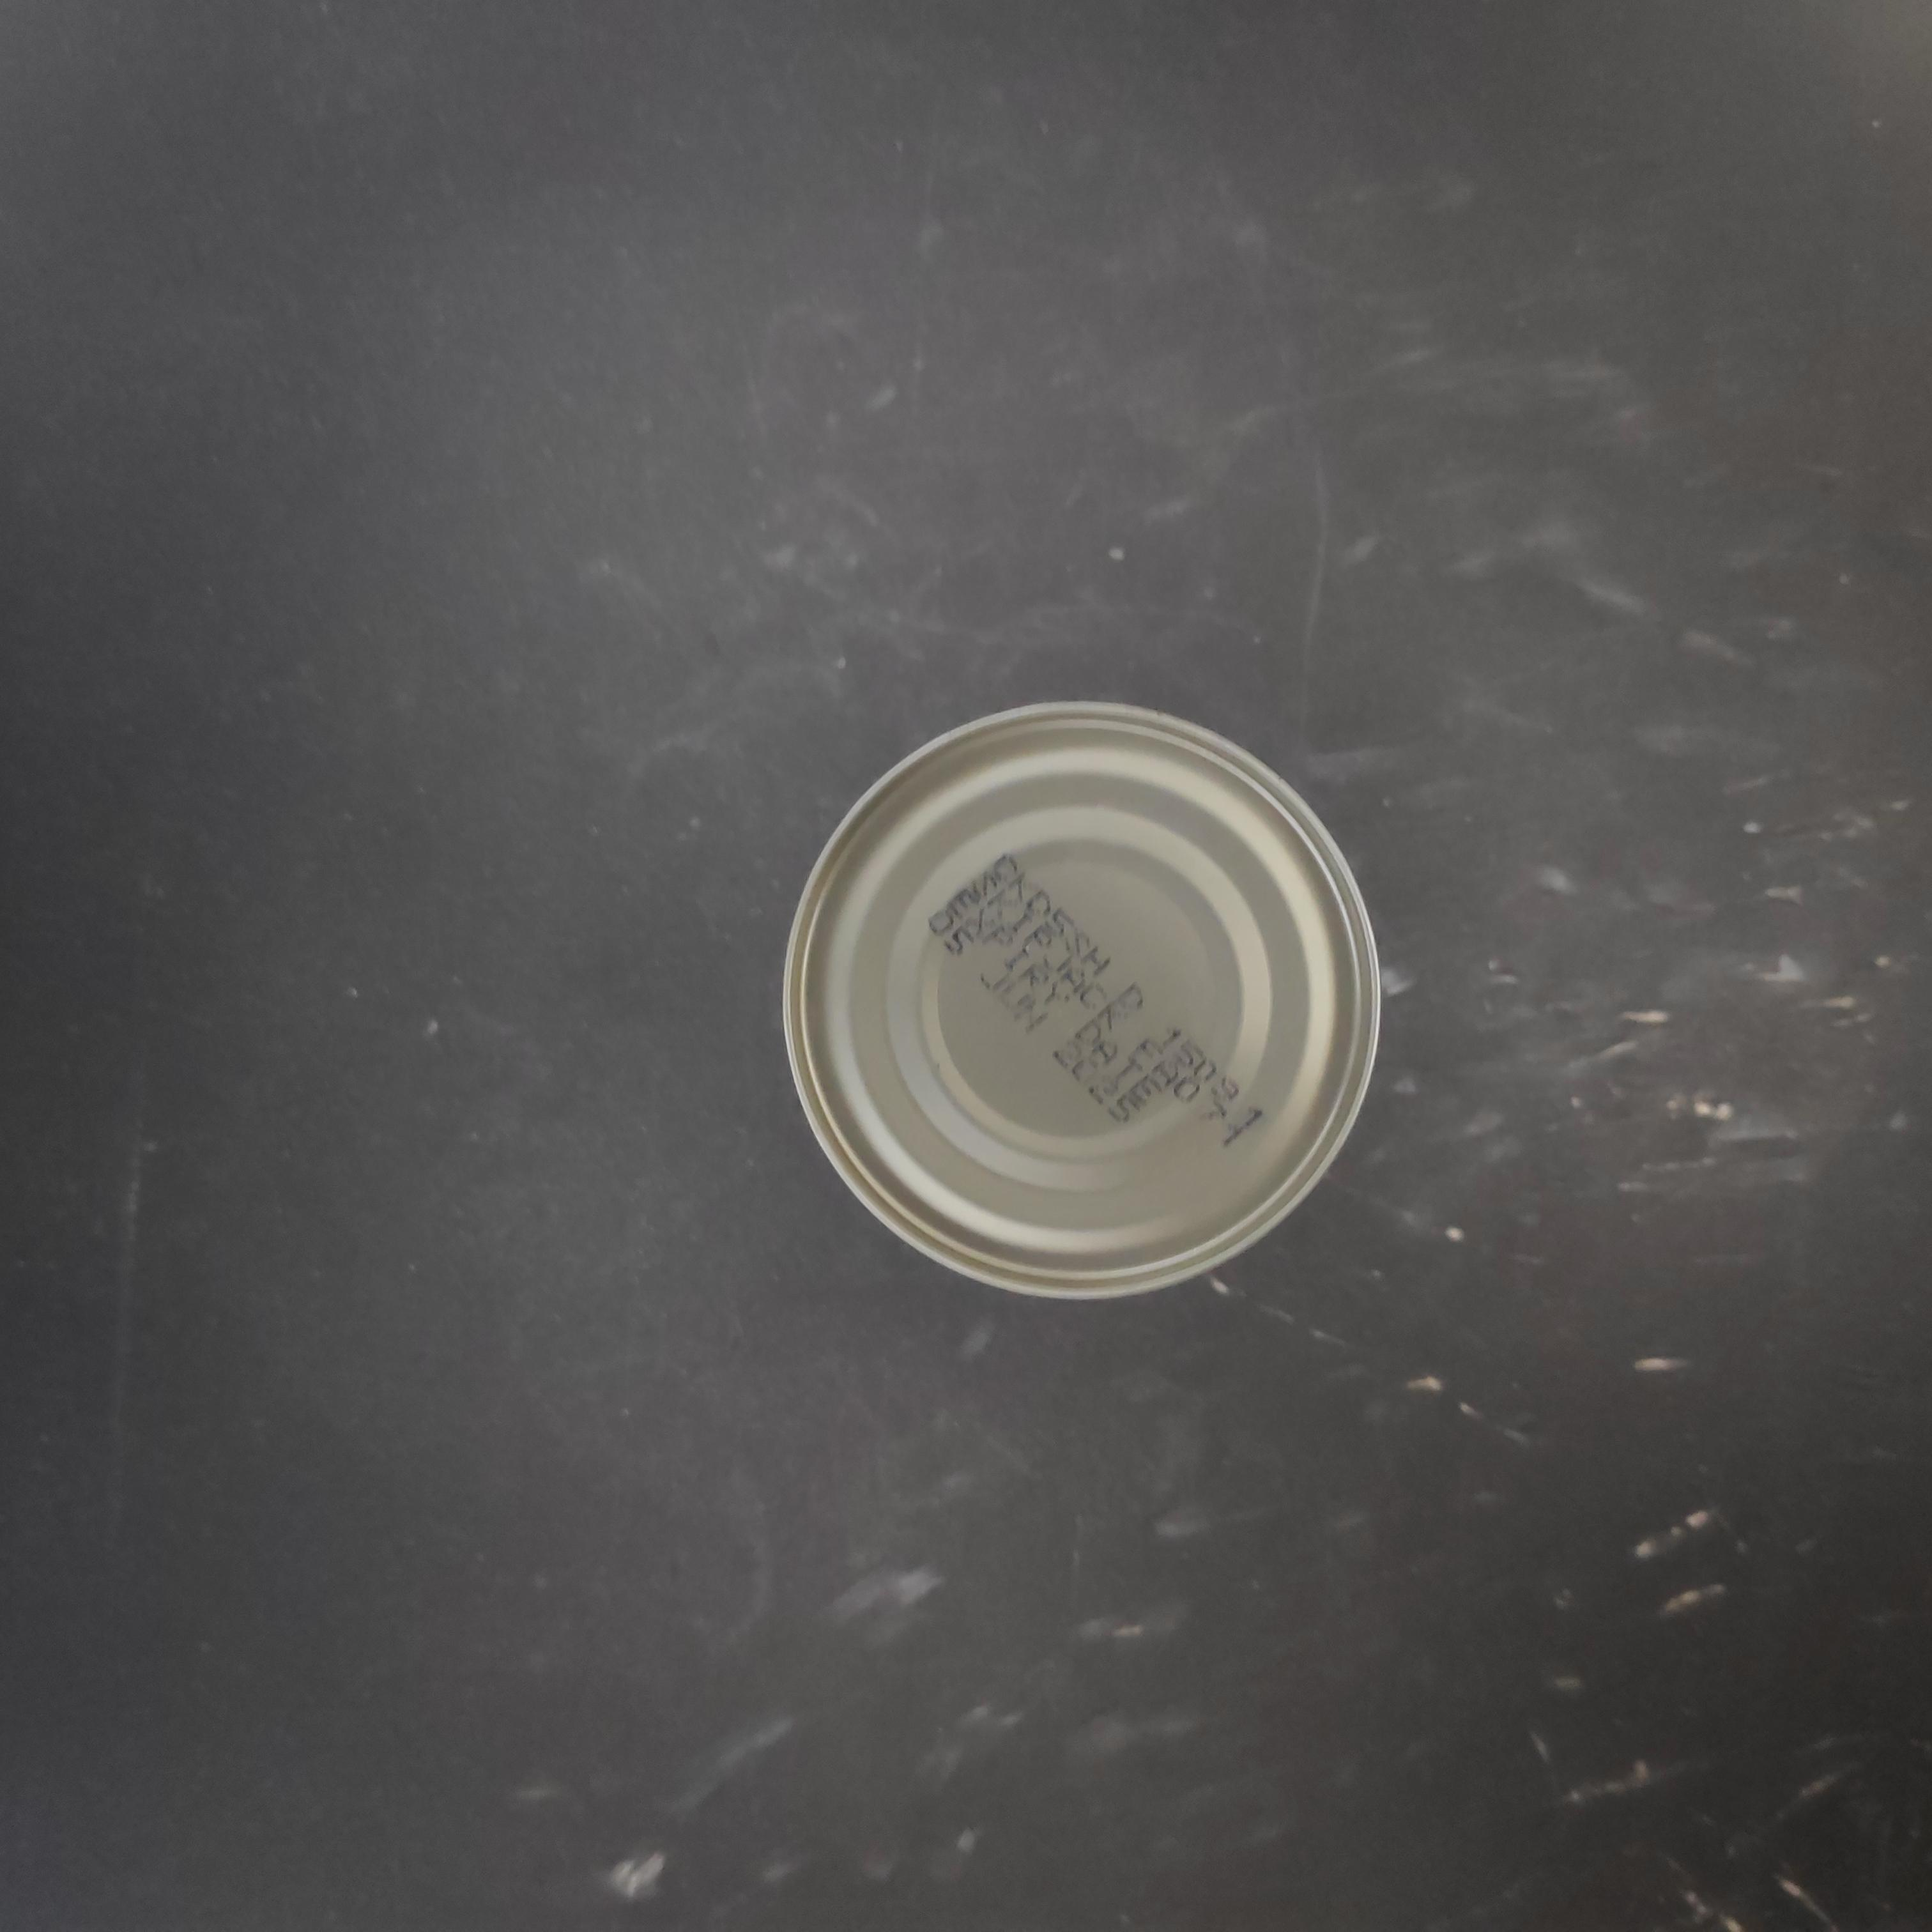No defect: (545, 629, 1154, 1238)
